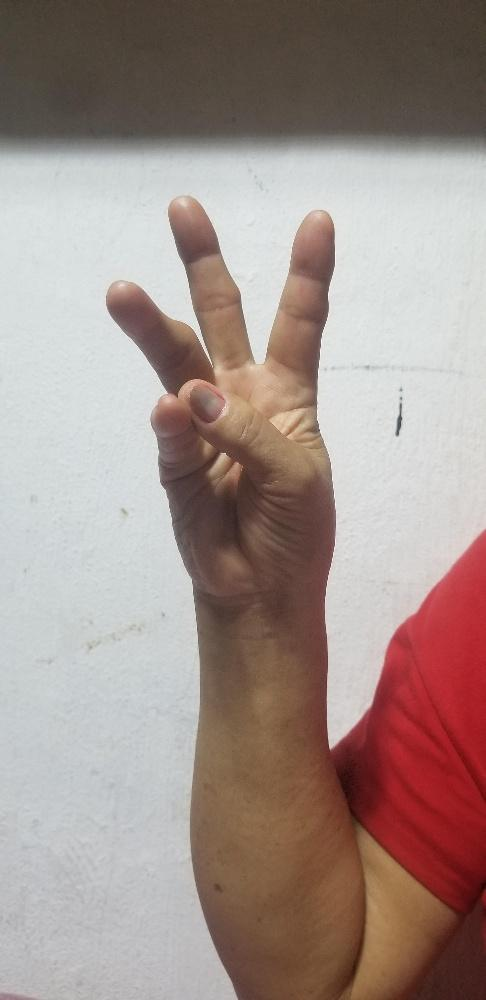w: (105, 196, 337, 537)
